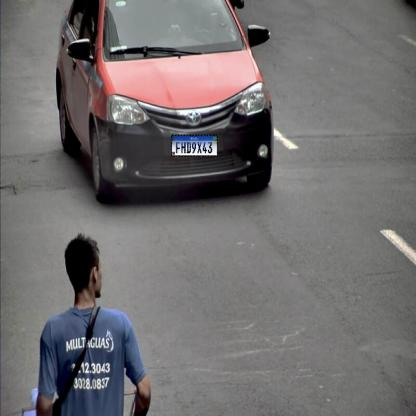PlacaM: (171, 134, 218, 156)
